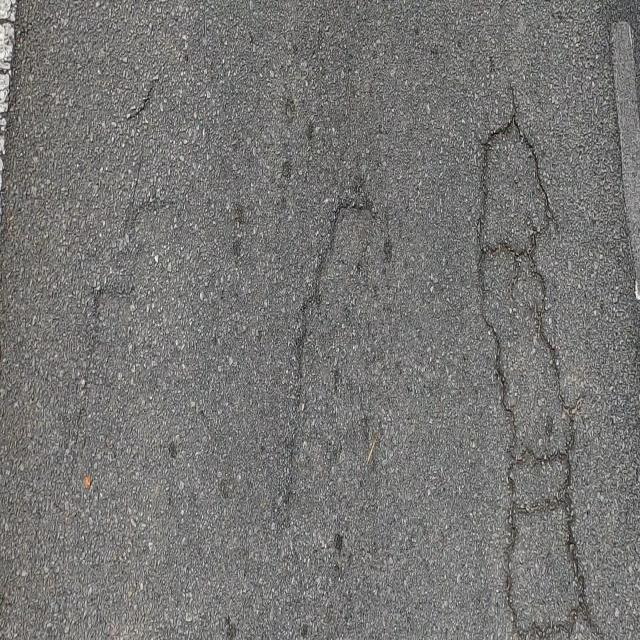Retak-Buaya: (475, 113, 606, 640)
